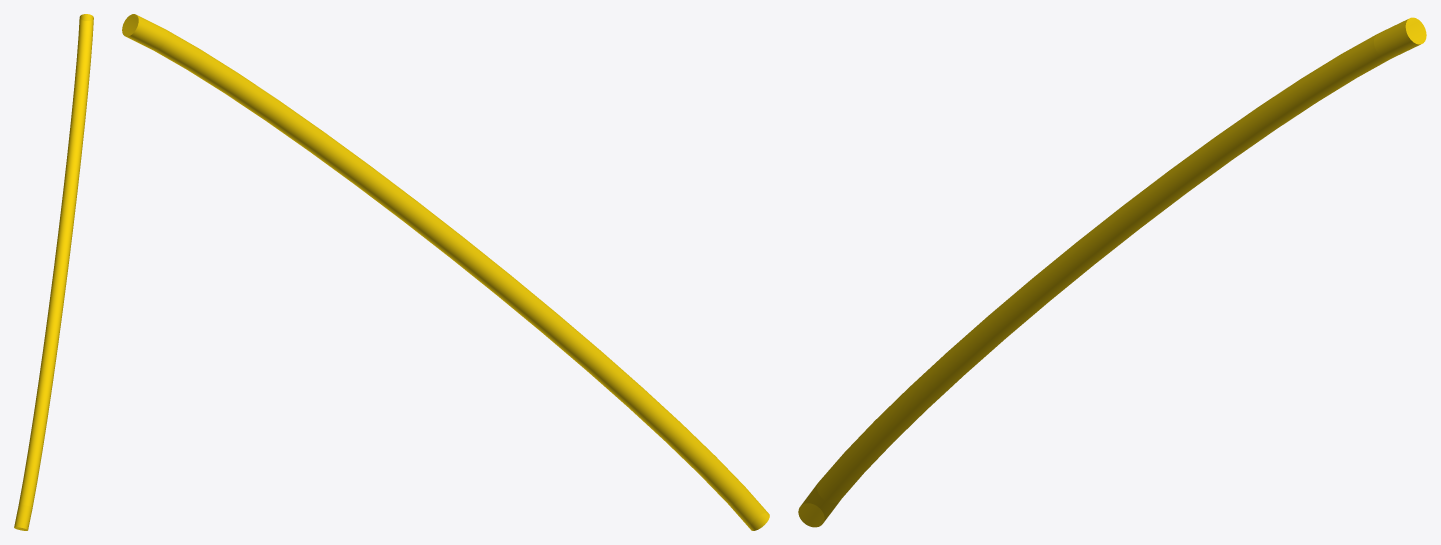
The model's file is Event_420094457_track_93.fbx.
3 views of the same model, side by side, from view 1: azimuth 30°, elevation 25°; view 2: azimuth 150°, elevation 25°; view 3: azimuth 270°, elevation 25° (orthographic). The views are drawn at different scales.
Parts seen in each view (by area): view 1: Model; view 2: Model; view 3: Model.
Part boxes in pixels (x1=…): Model: x1=14, y1=14, x2=93, y2=530; Model: x1=122, y1=14, x2=769, y2=530; Model: x1=798, y1=17, x2=1426, y2=527.
Size of the model in its own units: 0.7346 by 1.1 by 0.8769.
